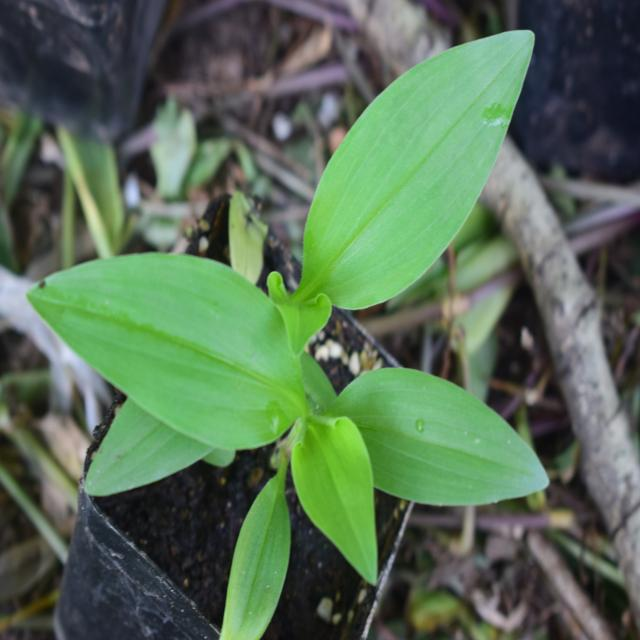Common Dayflower: (49, 267, 536, 593), (290, 17, 554, 270)
